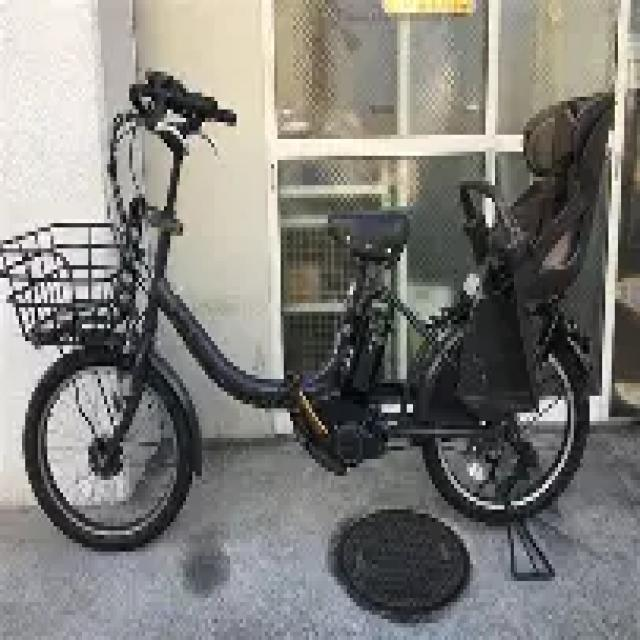basket: (0, 217, 147, 348)
battery: (343, 304, 394, 399)
childseat: (432, 85, 620, 429)
